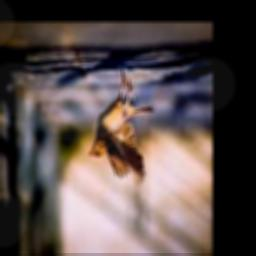Sparrow: (88, 67, 153, 187)
